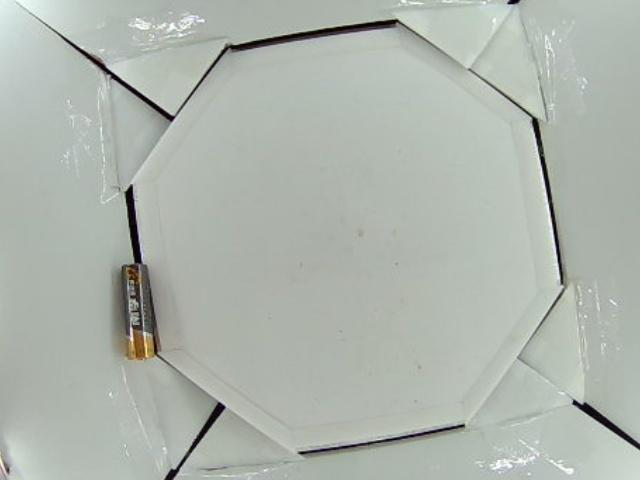Battery: (119, 264, 156, 362)
